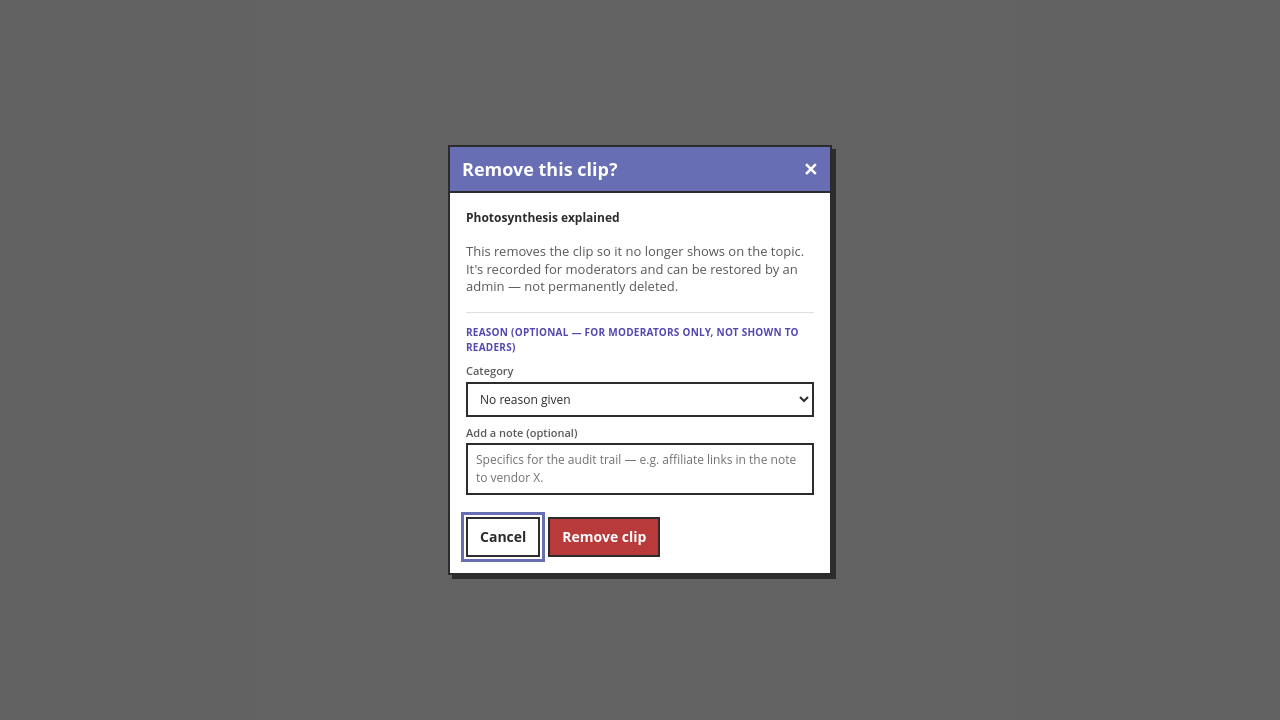
it: RemoveConfirmDialog — safety, soft copy, optional reason, states (§5) › on the rate-limit outcome keeps the dialog open with the calm role=status notice (not red, not the gate)
What coordinates should you click on to do the following:
click the button "Remove clip"
I would click on:
 (604, 537)
Its box is [548,517,660,557].
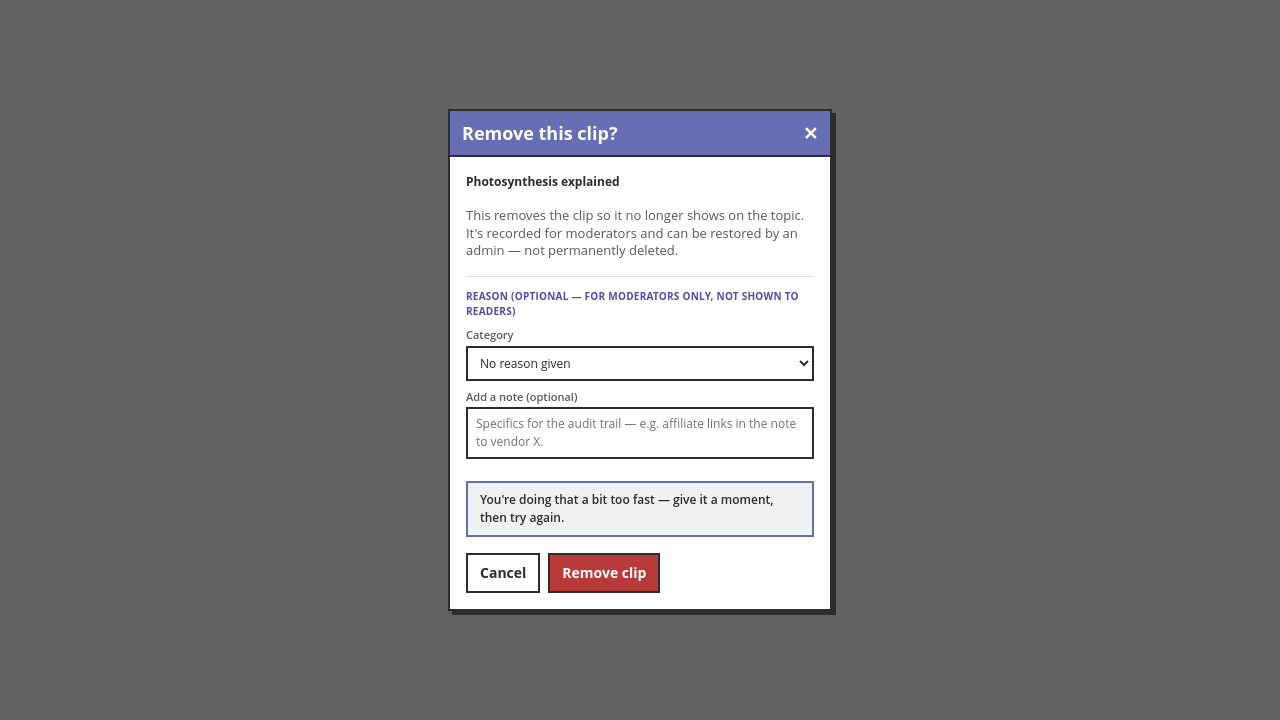
Now the message "You're doing that a bit too fast — give it a moment, then try again." is shown, box [466,481,814,537]
